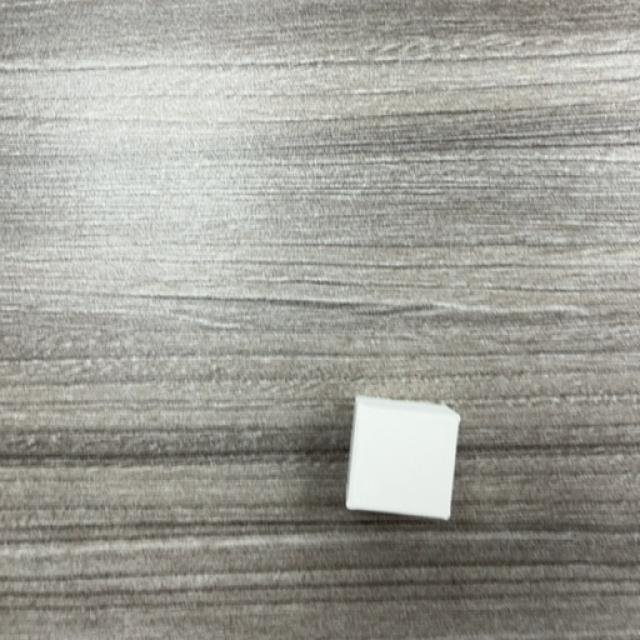Blanco: (345, 396, 461, 522)
